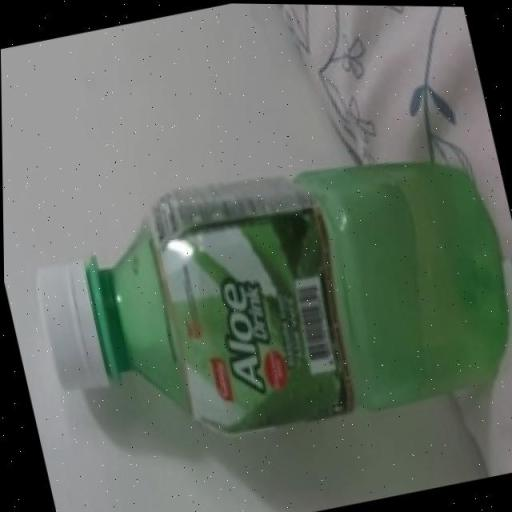plastic: (34, 160, 510, 437)
